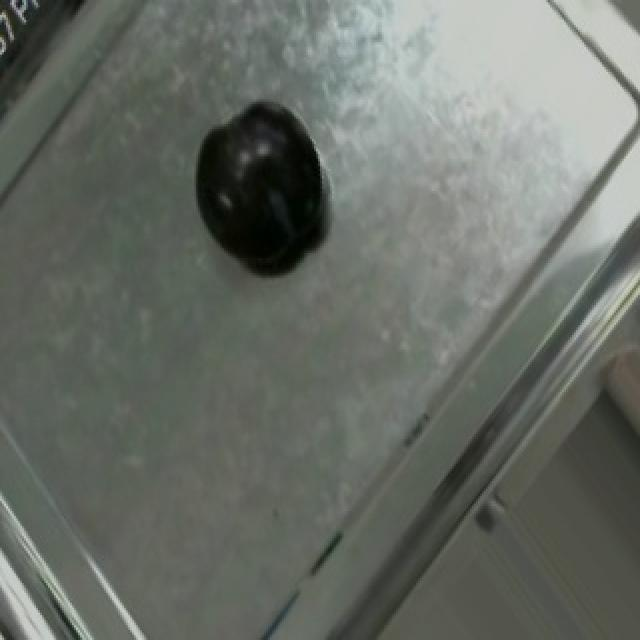Fruit: (170, 84, 346, 286)
